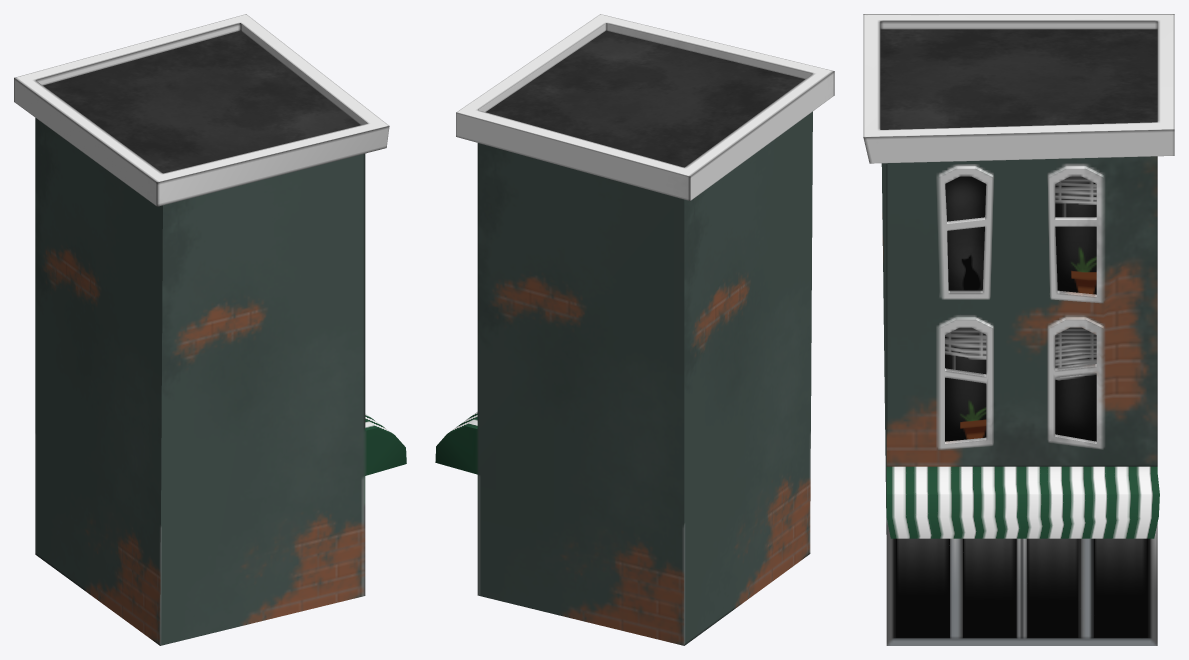
The model's file is House_02.FBX.
3 renders of one model, left to right at view 1: azimuth 30°, elevation 25°; view 2: azimuth 150°, elevation 25°; view 3: azimuth 270°, elevation 25°, orthographic. The views are drawn at different scales.
Parts seen in each view (by area): view 1: Box112; view 2: Box112; view 3: Box112.
Part boxes in pixels (x1,y1,x2,y2): Box112: [14, 14, 406, 645]; Box112: [435, 14, 834, 645]; Box112: [863, 14, 1174, 645].
Size of the model in its own units: 98.56 by 173 by 93.22.
